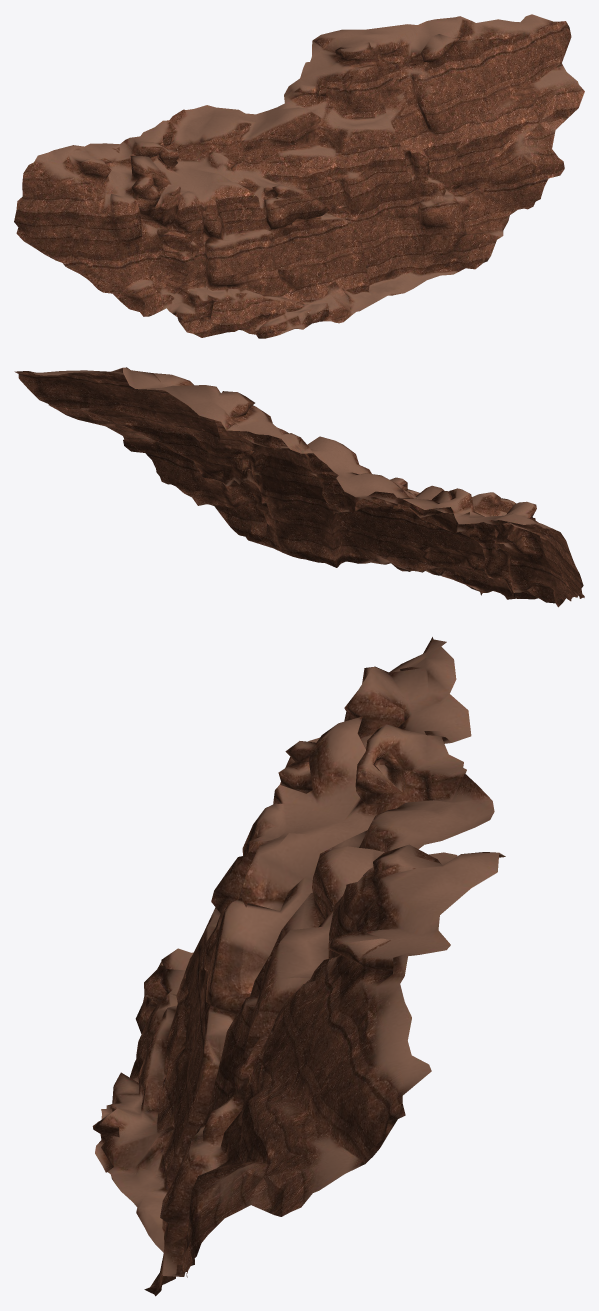
File: canyon_cliff_b.glb
3 views of the same model, one above another, from view 1: azimuth 30°, elevation 25°; view 2: azimuth 150°, elevation 25°; view 3: azimuth 270°, elevation 25° (orthographic). The views are drawn at different scales.
Visible parts, largest first — view 1: canyon_cliff_b; view 2: canyon_cliff_b; view 3: canyon_cliff_b.
Boxes of the visible parts, x1=… form: canyon_cliff_b: x1=14, y1=14, x2=584, y2=338; canyon_cliff_b: x1=14, y1=367, x2=584, y2=607; canyon_cliff_b: x1=92, y1=637, x2=505, y2=1296.
Bounding box in the file's own units: 52.47 × 18.63 × 17.11.
1 material, 1 textured.
